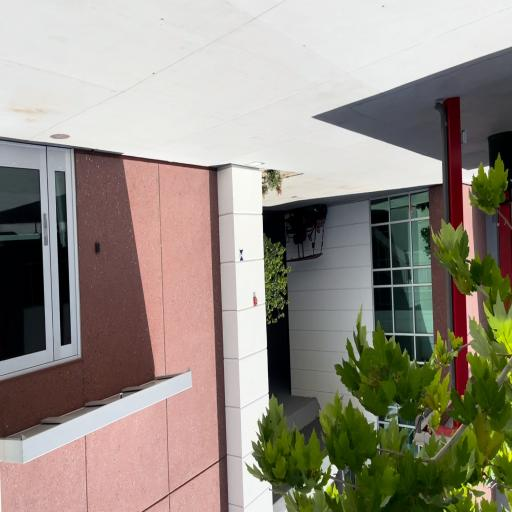target9: (239, 250, 244, 260)
